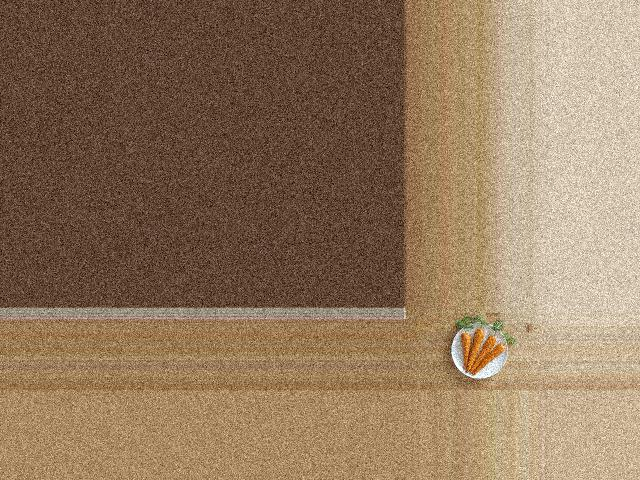carrot: (473, 340, 507, 377)
